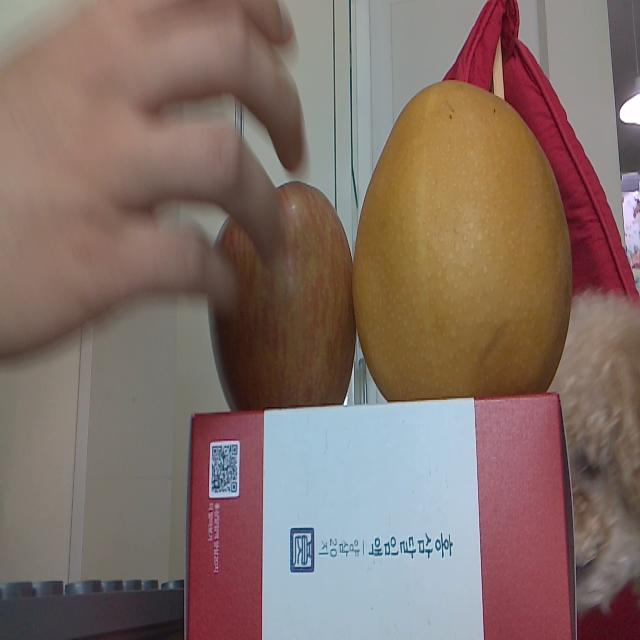apple: (206, 178, 356, 418)
pear: (352, 80, 577, 404)
